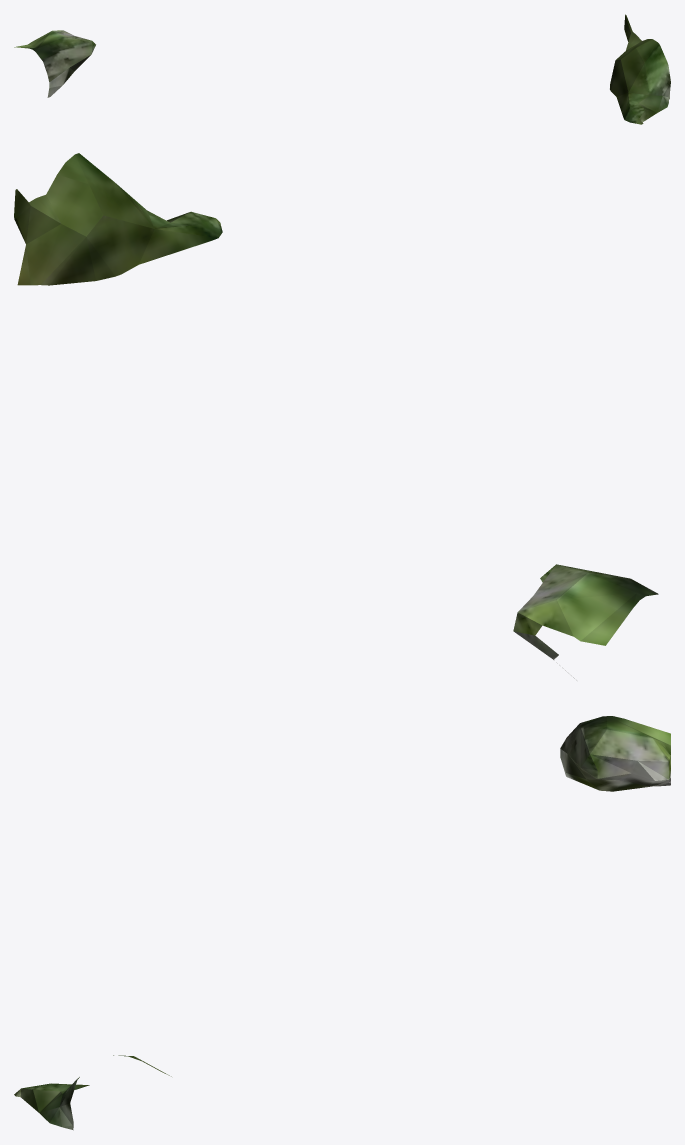
The picture shows the model from 3 angles, top to bottom: view 1: azimuth 30°, elevation 25°; view 2: azimuth 150°, elevation 25°; view 3: azimuth 270°, elevation 25°; orthographic projection. The views are drawn at different scales.
Bounding box in the file's own units: 0.8373 × 0.0905 × 0.6527.
Materials: 1 (1 with a texture image).
